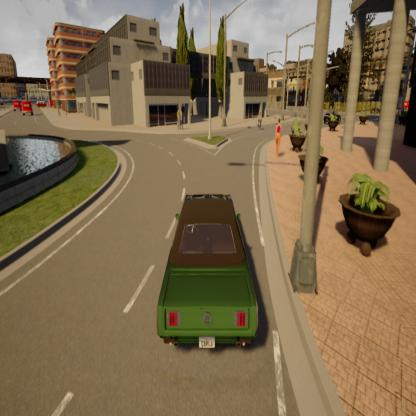Cars: (145, 173, 264, 367), (323, 100, 344, 140), (22, 96, 34, 116), (12, 98, 22, 115)
Pedestrian: (272, 118, 284, 160), (176, 108, 182, 131)
